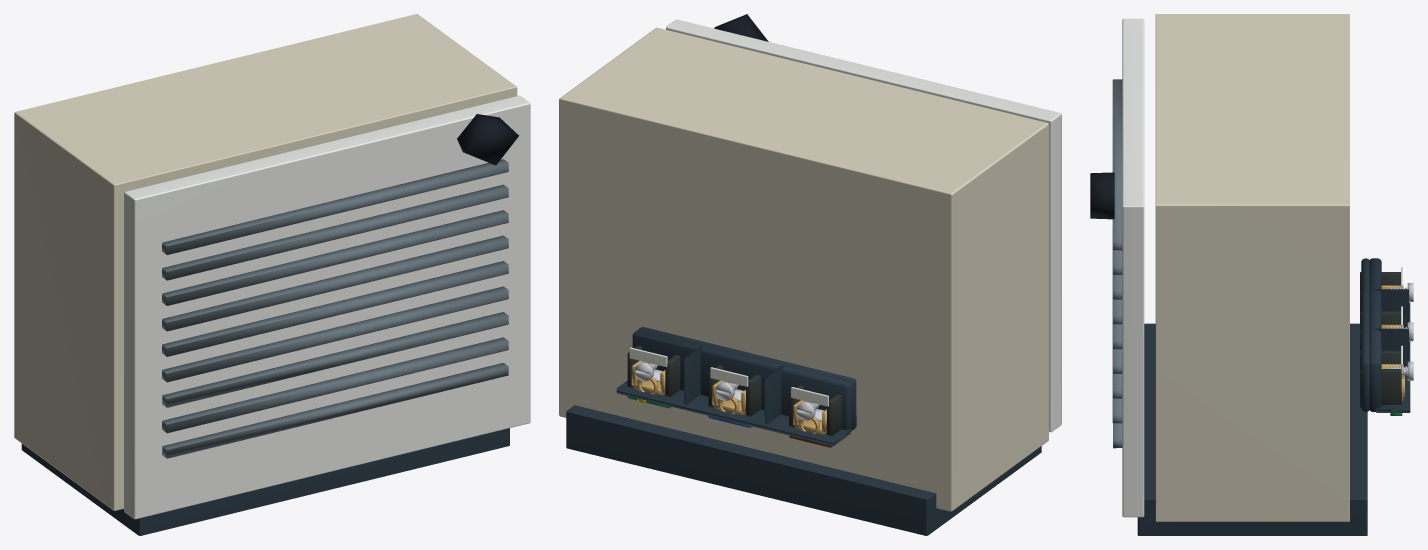
Rendered from heater_storage.low.glb.
3 views of the same model, side by side, from view 1: azimuth 30°, elevation 25°; view 2: azimuth 150°, elevation 25°; view 3: azimuth 270°, elevation 25° (orthographic). The views are drawn at different scales.
Parts seen in each view (by area): view 1: part:cover, part:body, part:cover · Original 0905ee26, part:body.001; view 2: part:body, part:terminals · Original a463fd81, part:cover, detail:terminal-clamp:PE · Detail moulded engineering polyme, detail:terminal-clamp:N · Detail moulded engineering polymer, detail:terminal-clamp:L · Detail moulded engineering polymer, part:body.001, detail:terminal-clamp:PE · Detail machined brass; view 3: part:body, part:cover, part:terminals · Original a463fd81, part:cover · Original 0905ee26, part:body.001, detail:terminal-clamp:PE · Detail moulded engineering polyme.
Boxes of the visible parts, x1,y1,x2,y2 form: part:cover: (124,95,530,519); part:body: (14,14,517,535); part:cover · Original 0905ee26: (162,159,508,458); part:body.001: (457,114,518,165); part:body: (559,27,1048,535); part:terminals · Original a463fd81: (616,327,856,446); part:cover: (666,19,1061,432); detail:terminal-clamp:PE · Detail moulded engineering polyme: (627,345,680,397); detail:terminal-clamp:N · Detail moulded engineering polymer: (708,365,760,416); detail:terminal-clamp:L · Detail moulded engineering polymer: (789,385,841,436); part:body.001: (714,14,768,41); detail:terminal-clamp:PE · Detail machined brass: (631,360,665,395); part:body: (1137,14,1367,535); part:cover: (1122,18,1144,517); part:terminals · Original a463fd81: (1361,258,1410,412); part:cover · Original 0905ee26: (1112,79,1122,448); part:body.001: (1090,172,1114,219); detail:terminal-clamp:PE · Detail moulded engineering polyme: (1360,350,1402,407).
Size of the model in its own units: 1.21 by 1 by 0.8604.
